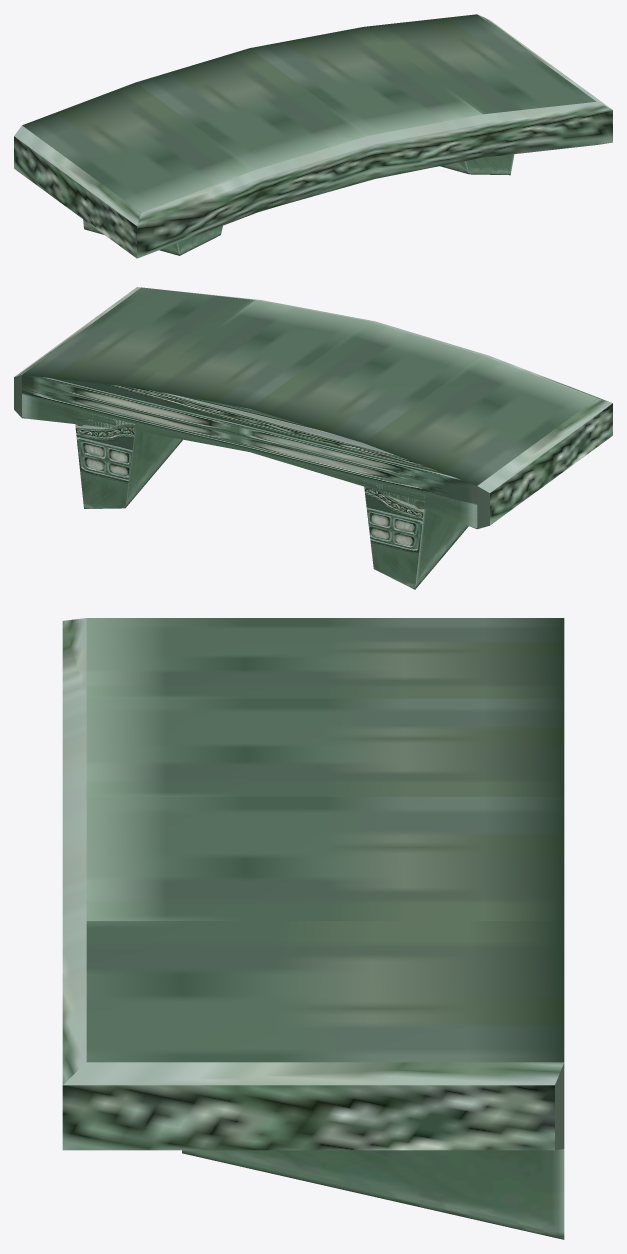
The model's file is tana20.glb.
3 views of the same model, one above another, from view 1: azimuth 30°, elevation 25°; view 2: azimuth 150°, elevation 25°; view 3: azimuth 270°, elevation 25° (orthographic). The views are drawn at different scales.
Parts seen in each view (by area): view 1: tana20; view 2: tana20; view 3: tana20.
Part boxes in pixels (x1,y1,x2,y2): tana20: [14, 14, 612, 258]; tana20: [14, 287, 612, 589]; tana20: [62, 618, 564, 1239].
Bounding box in the file's own units: 230 × 65 × 105.
1 material, 1 textured.
